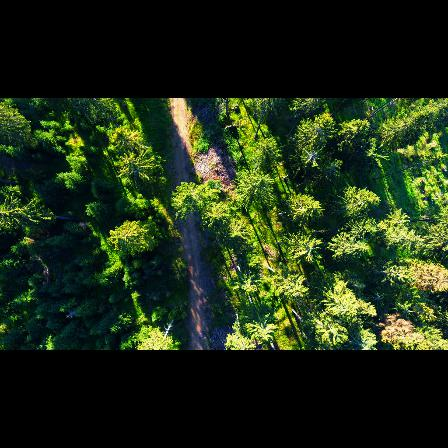Sick: (299, 144, 326, 167)
